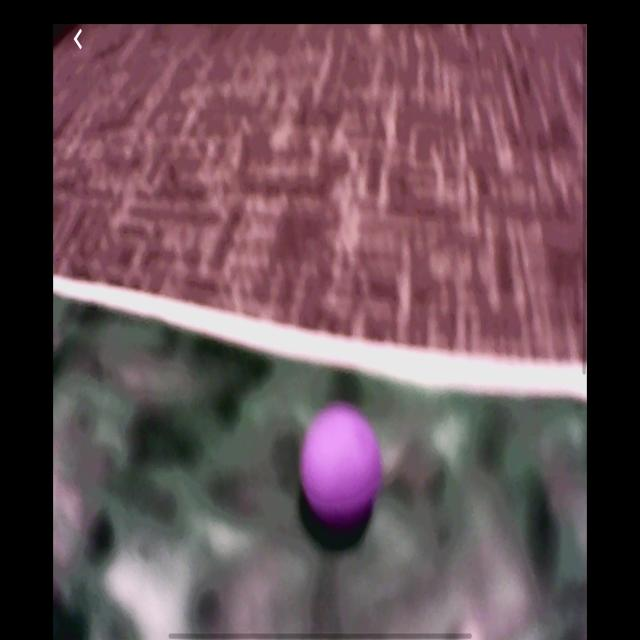ball: (299, 402, 384, 533)
